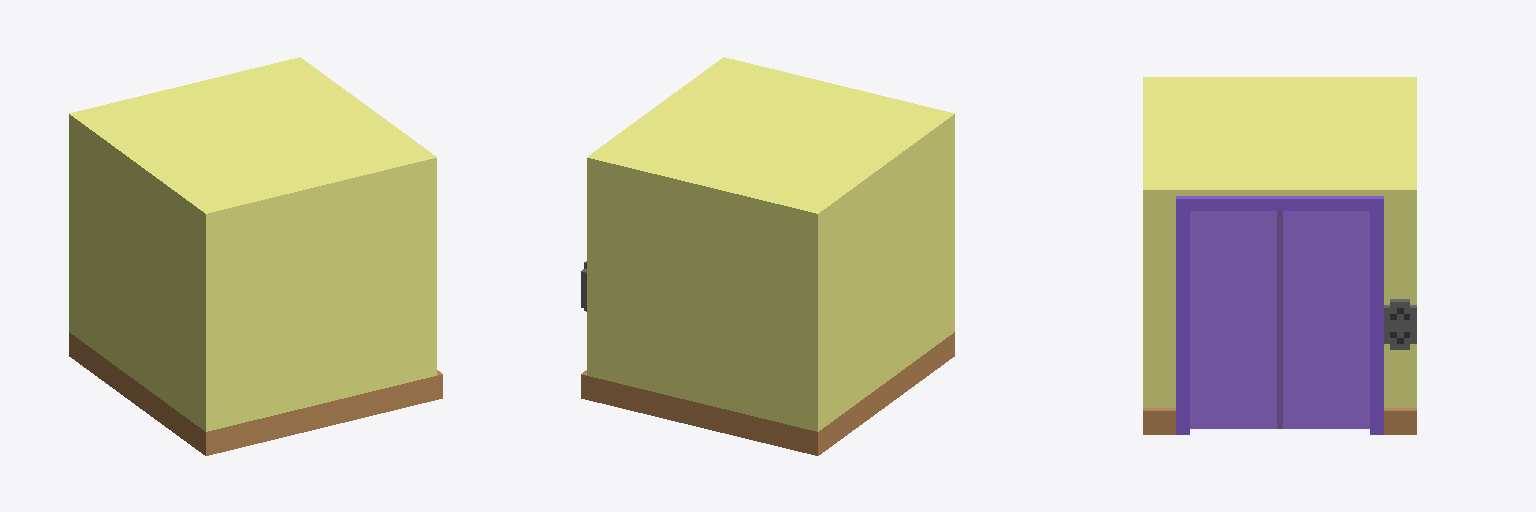
3 views of the same model, side by side, from view 1: azimuth 30°, elevation 25°; view 2: azimuth 150°, elevation 25°; view 3: azimuth 270°, elevation 25° (orthographic).
Parts seen in each view (by area): view 1: object 1; view 2: object 1; view 3: object 1.
Boxes of the visible parts, x1,y1,x2,y2 form: object 1: [69, 57, 442, 455]; object 1: [581, 57, 954, 455]; object 1: [1143, 77, 1416, 434].
Size of the model in its own units: 4.1 by 4 by 4.1.
Materials: 1 (1 with a texture image).